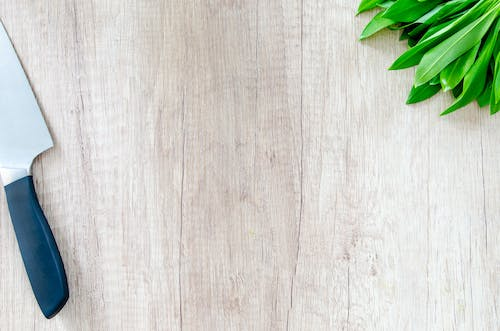knife: (0, 16, 70, 321)
